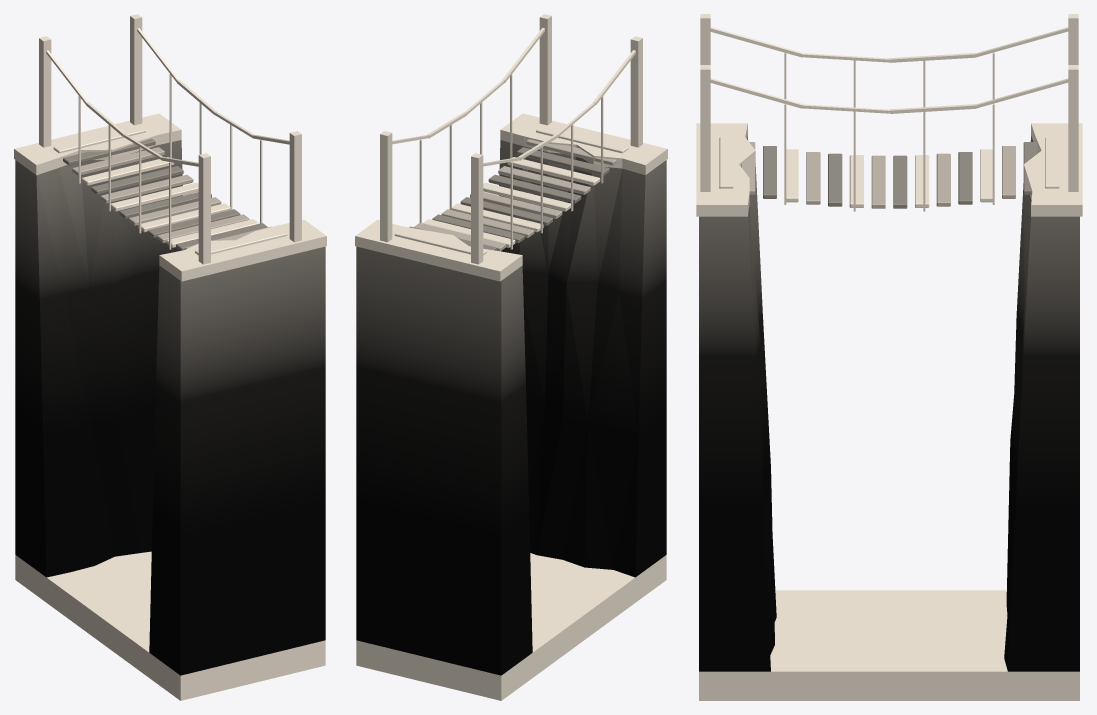
Rendered from SM_VKI_Pit_ChasmBridge_150x300.fbx.
3 views of the same model, side by side, from view 1: azimuth 30°, elevation 25°; view 2: azimuth 150°, elevation 25°; view 3: azimuth 270°, elevation 25° (orthographic). The views are drawn at different scales.
Visible parts, largest first — view 1: SM_VKI_Pit_ChasmBridge_150x300.001; view 2: SM_VKI_Pit_ChasmBridge_150x300.001; view 3: SM_VKI_Pit_ChasmBridge_150x300.001.
Part boxes in pixels (left/top/right/bottom): SM_VKI_Pit_ChasmBridge_150x300.001: left=14, top=14, right=326, bottom=700; SM_VKI_Pit_ChasmBridge_150x300.001: left=355, top=14, right=667, bottom=700; SM_VKI_Pit_ChasmBridge_150x300.001: left=696, top=14, right=1082, bottom=700.
Bounding box in the file's own units: 1.5 × 5.3 × 3.
